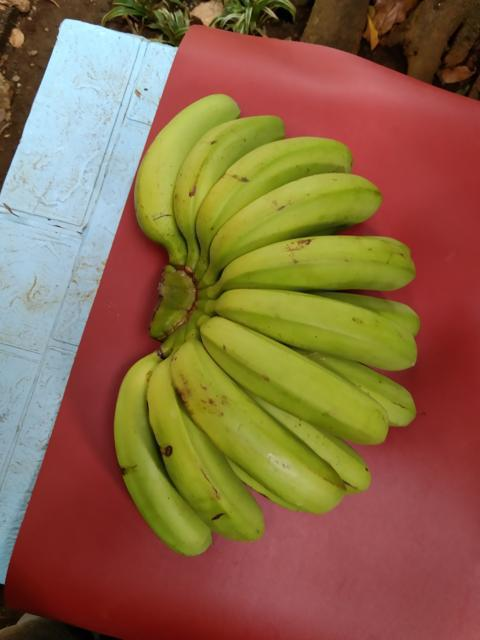freshunripe: (203, 320, 393, 448), (213, 283, 425, 377), (208, 169, 390, 264), (130, 89, 240, 241)
unripe: (175, 335, 360, 519), (140, 354, 277, 546), (108, 344, 202, 555), (225, 222, 427, 297)
